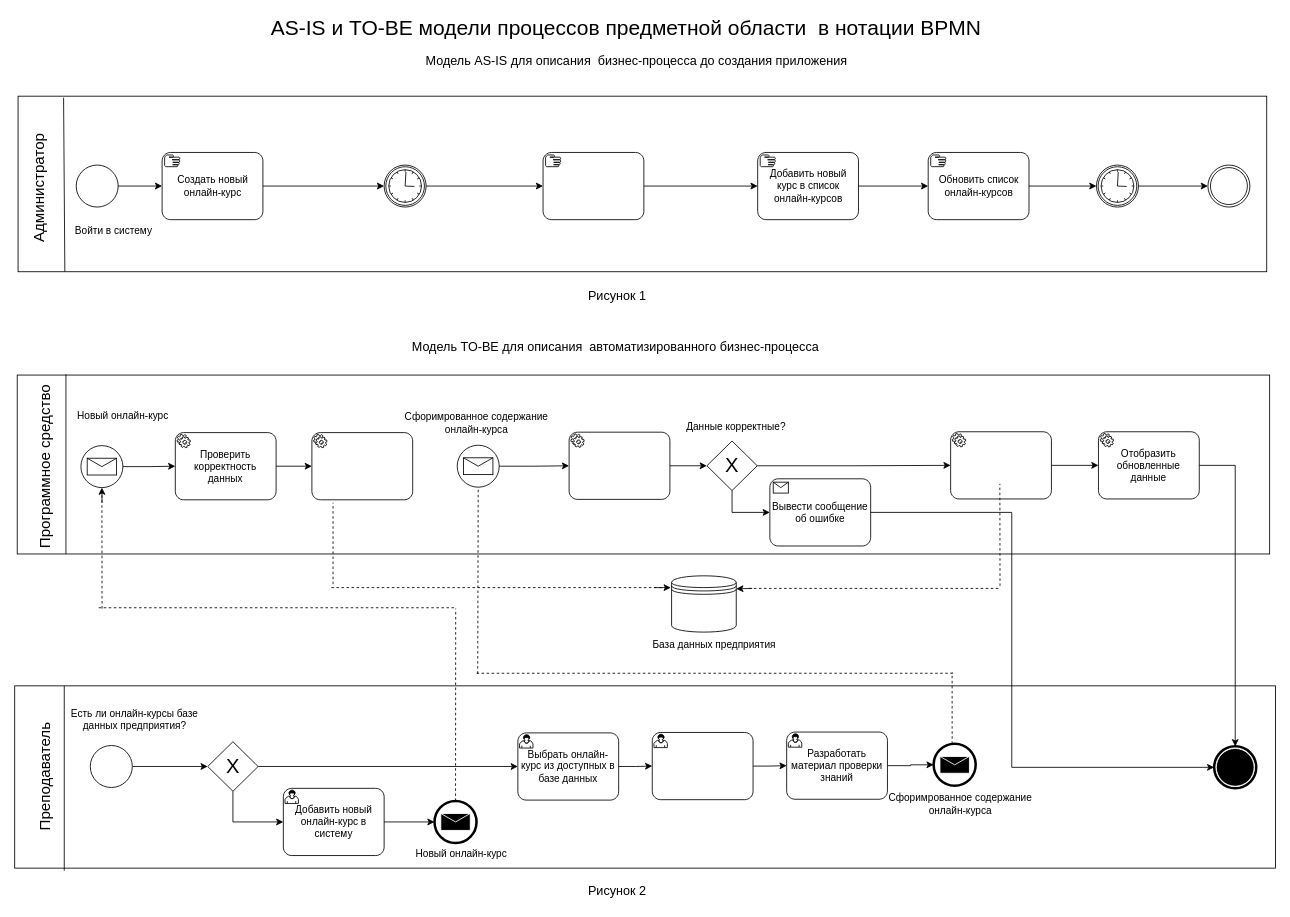
This 1290x917 diagram has some shape labels left out. Here are the shapes that lost their labels. From the top down, the centre of each, then its label:
At pixel 593 186: "Назначить преподавателя на курс".
At pixel 362 466: "Добавить онлайн-курс в базу данных предприятия".
At pixel 619 465: "Проверить корректность данных курса".
At pixel 1000 465: "Добавить материал курсов в базу данных предприятия".
At pixel 702 766: "Разработать методический материал".
